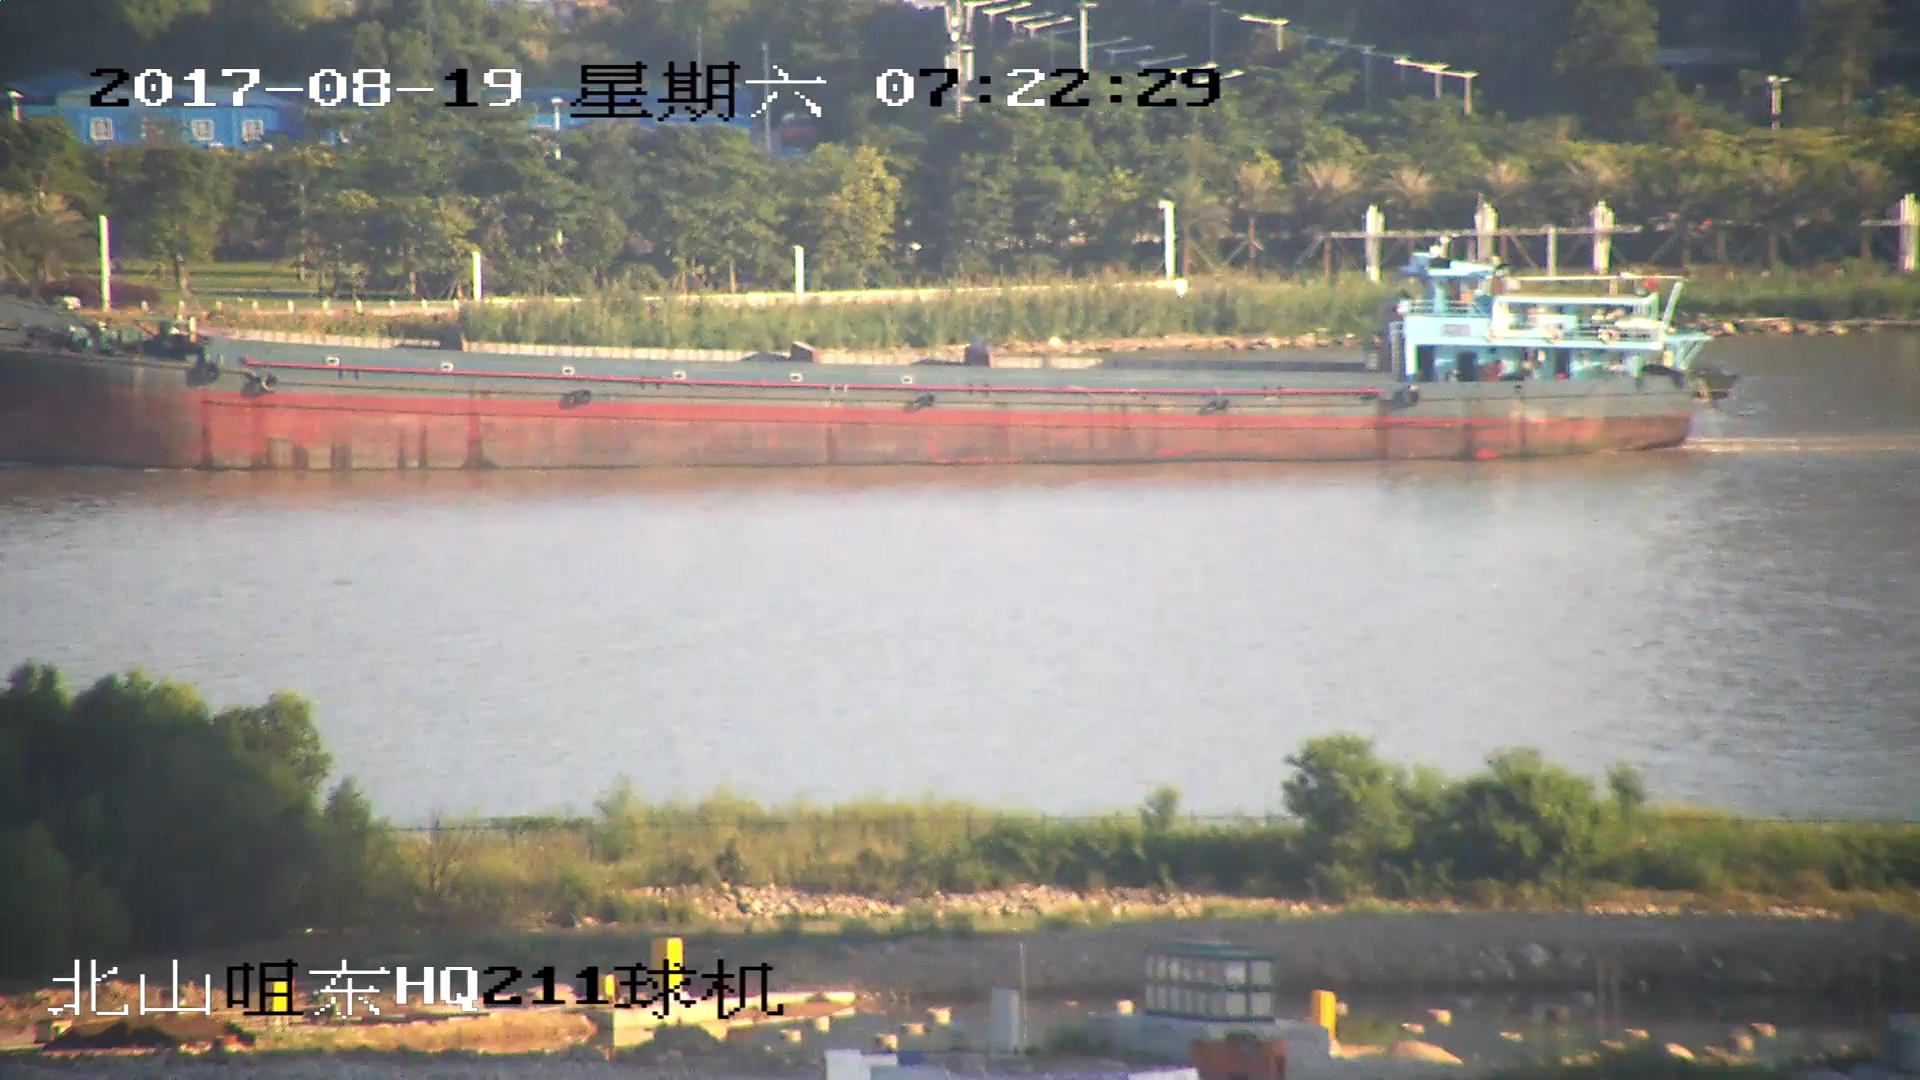bulk cargo carrier: (1, 242, 1723, 472)
